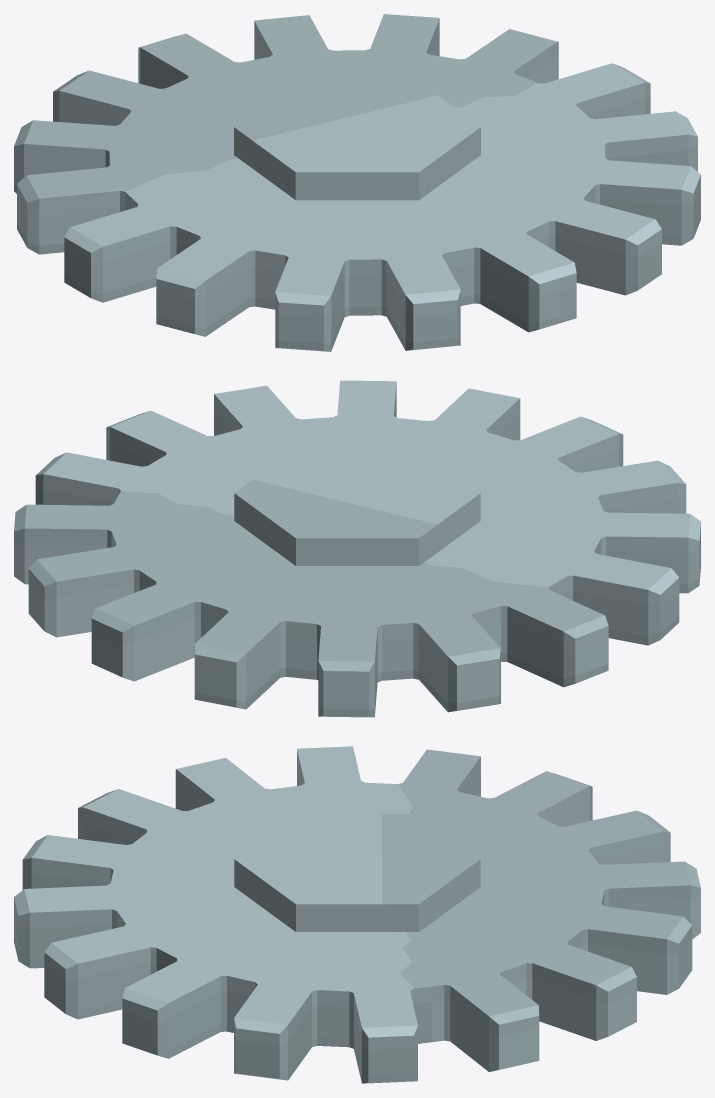
Rendered from item_cog.fbx.
3 views of the same model, one above another, from view 1: azimuth 30°, elevation 25°; view 2: azimuth 150°, elevation 25°; view 3: azimuth 270°, elevation 25° (orthographic).
Visible parts, largest first — view 1: Cylinder; view 2: Cylinder; view 3: Cylinder.
Part boxes in pixels (left/top/right/bottom): Cylinder: left=14, top=14, right=700, bottom=351; Cylinder: left=14, top=380, right=700, bottom=717; Cylinder: left=14, top=746, right=700, bottom=1083.
Size of the model in its own units: 55.82 by 10 by 55.82.
1 material, 1 textured.
